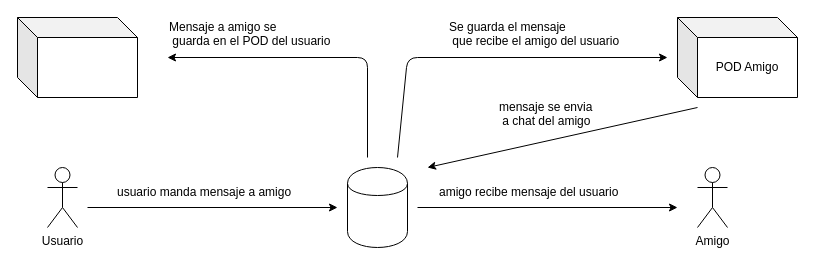
Image size: 815x266. Some labels were removed from this diagram. Here are the shapes that lost their labels. From the top down, the box of each, then its label:
(16, 16, 138, 98): POD Usuario
(346, 166, 408, 248): dechat
